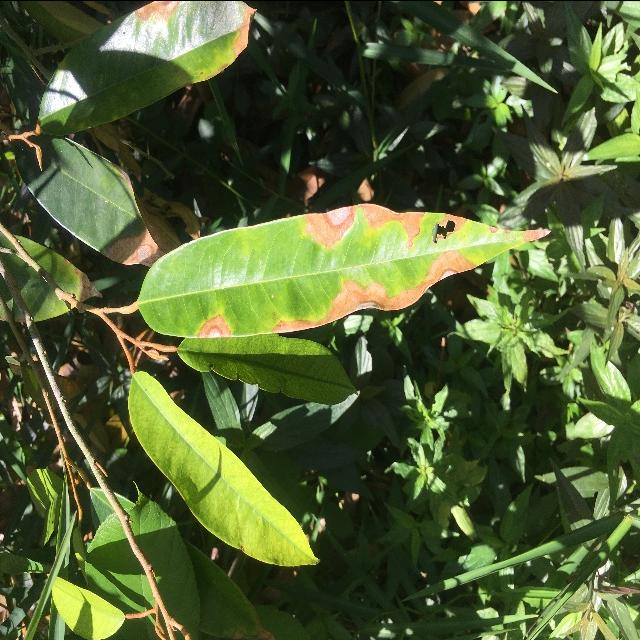Leaf Blight: (133, 194, 553, 345)
